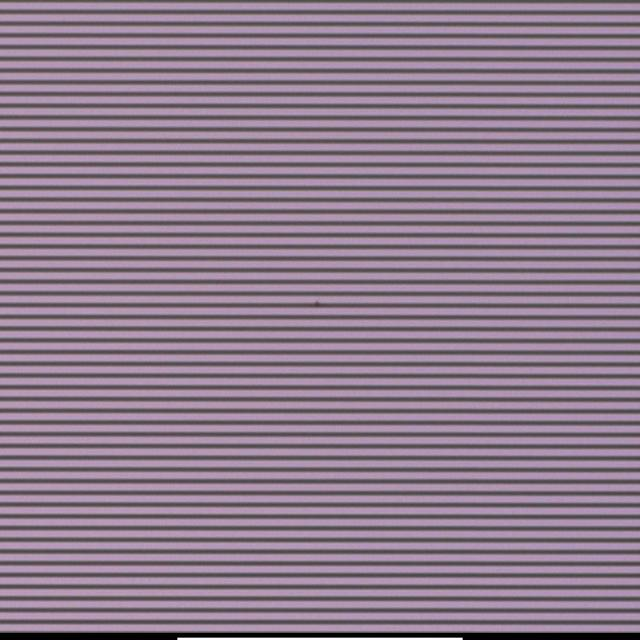03_intrusion: (312, 299, 322, 310)
